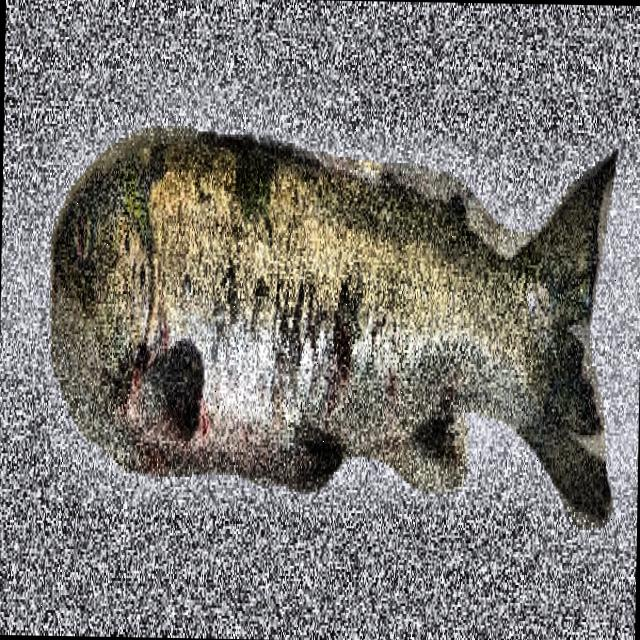mild_red: (328, 320, 350, 394), (194, 397, 207, 436)
